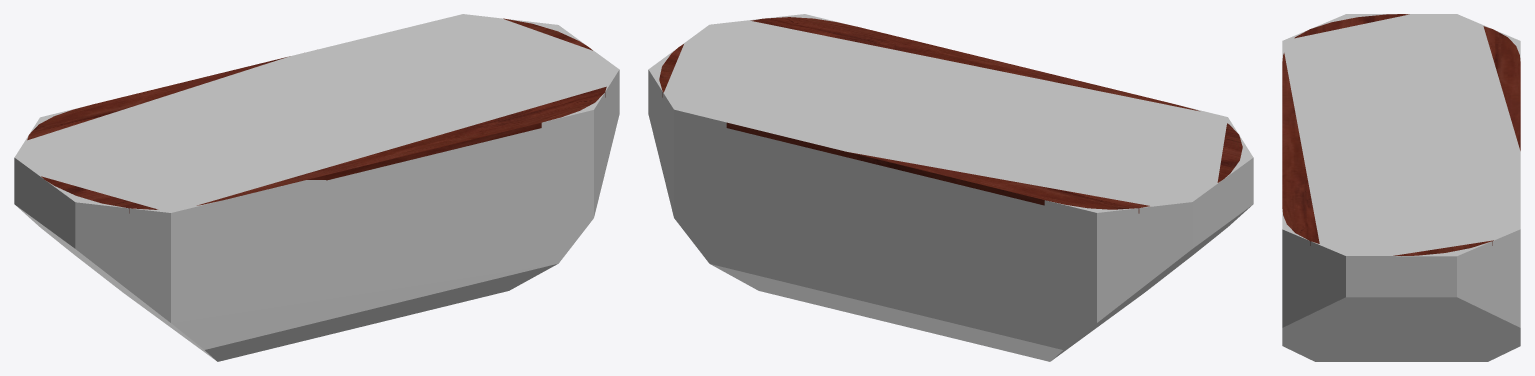
Rendered from SM_Classic_table.fbx.
3 views of the same model, side by side, from view 1: azimuth 30°, elevation 25°; view 2: azimuth 150°, elevation 25°; view 3: azimuth 270°, elevation 25° (orthographic). The views are drawn at different scales.
Parts seen in each view (by area): view 1: SM_Classic_table_ConvexHulls, SM_Classic_table; view 2: SM_Classic_table_ConvexHulls, SM_Classic_table; view 3: SM_Classic_table_ConvexHulls, SM_Classic_table.
Part boxes in pixels (<box>): SM_Classic_table_ConvexHulls: <box>14,14,619,361</box>; SM_Classic_table: <box>27,18,606,213</box>; SM_Classic_table_ConvexHulls: <box>648,14,1253,361</box>; SM_Classic_table: <box>659,17,1242,213</box>; SM_Classic_table_ConvexHulls: <box>1282,14,1520,361</box>; SM_Classic_table: <box>1282,14,1520,255</box>.
Bounding box in the file's own units: 257 × 107 × 80.31.
2 materials, 1 textured.
